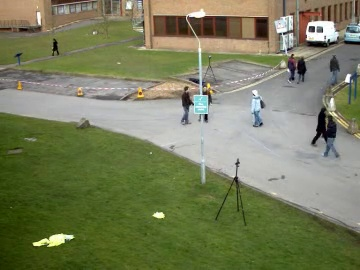person: (180, 85, 196, 125), (179, 84, 194, 124), (179, 85, 194, 124)
